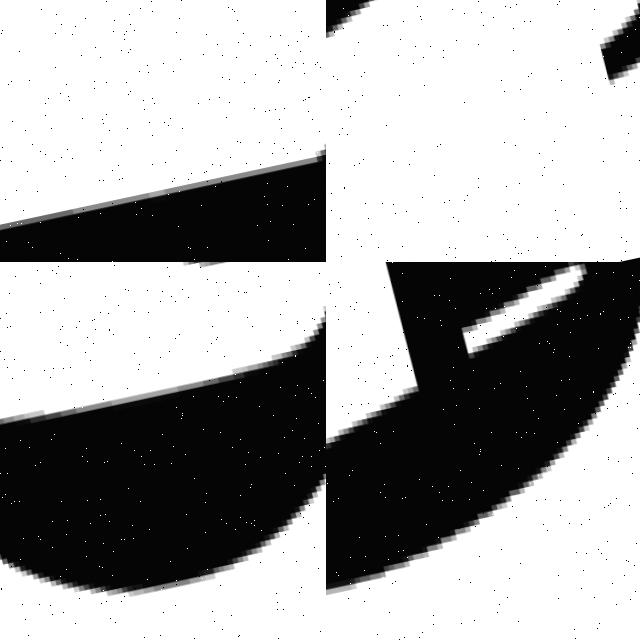7: (326, 0, 640, 166)
C: (0, 262, 326, 595)
E: (326, 262, 640, 592)
R: (0, 0, 326, 262)
